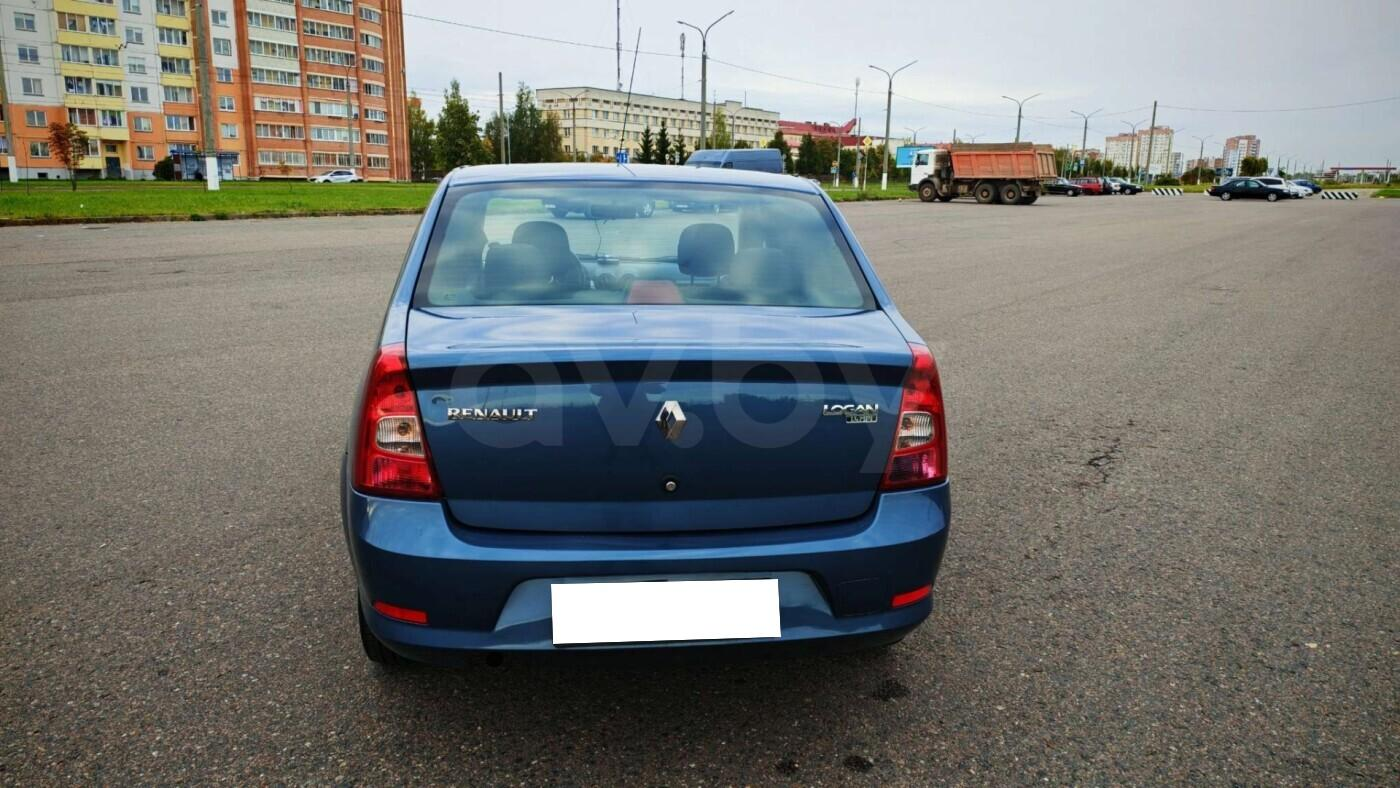Logan_2008-2015: (336, 152, 951, 693)
